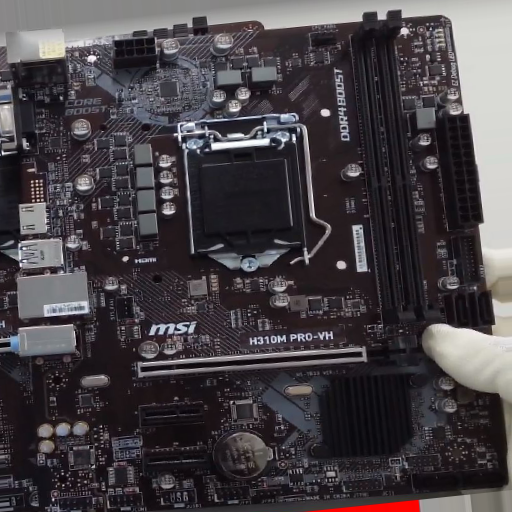CPU: (176, 114, 308, 272)
GPU: (133, 334, 422, 383)
MOTHERBOARD: (1, 16, 506, 509)
RAM: (354, 12, 439, 330)
